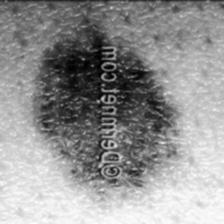Potentially Malignant Skin Tumors: (118, 46, 184, 204), (38, 37, 96, 204)
